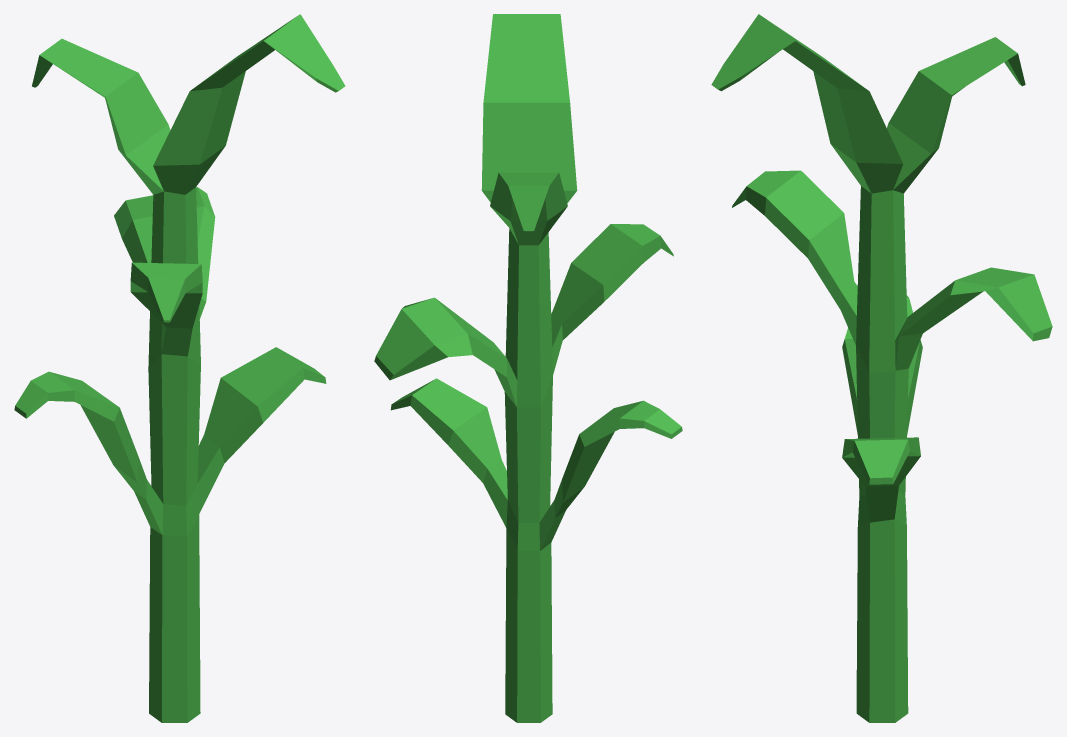
Rendered from 1-2_corn.glb.
3 views of the same model, side by side, from view 1: azimuth 30°, elevation 25°; view 2: azimuth 150°, elevation 25°; view 3: azimuth 270°, elevation 25° (orthographic). The views are drawn at different scales.
Visible parts, largest first — view 1: Цилиндр; view 2: Цилиндр; view 3: Цилиндр.
Part boxes in pixels (x1=…): Цилиндр: x1=14, y1=14, x2=345, y2=722; Цилиндр: x1=374, y1=14, x2=682, y2=722; Цилиндр: x1=711, y1=14, x2=1052, y2=722.
Size of the model in its own units: 0.489 by 1.1 by 0.4758.
